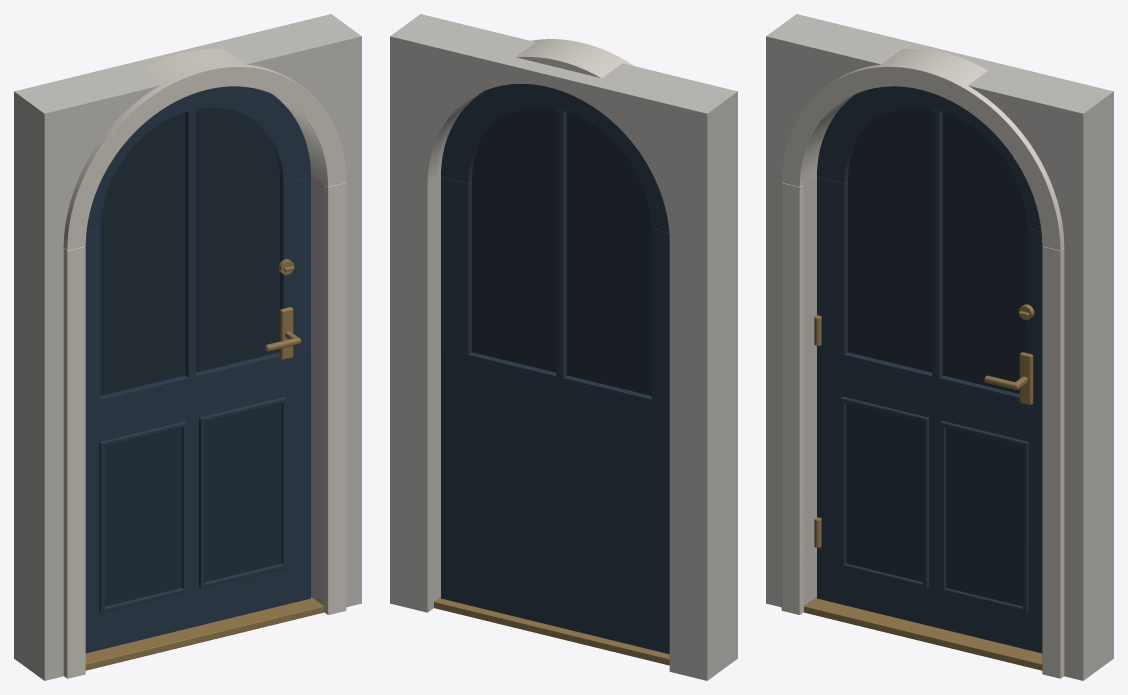
Rendered from entry-door-v002.glb.
3 views of the same model, side by side, from view 1: azimuth 30°, elevation 25°; view 2: azimuth 150°, elevation 25°; view 3: azimuth 330°, elevation 25° (orthographic).
Visible parts, largest first — view 1: Export Lower solid leaf; view 2: Export Lower solid leaf; view 3: Export Lower solid leaf.
Boxes of the visible parts, <box> form: Export Lower solid leaf: <box>14,14,361,680</box>; Export Lower solid leaf: <box>390,14,737,680</box>; Export Lower solid leaf: <box>766,14,1113,680</box>.
Bounding box in the file's own units: 1.2 × 2.08 × 0.224.
